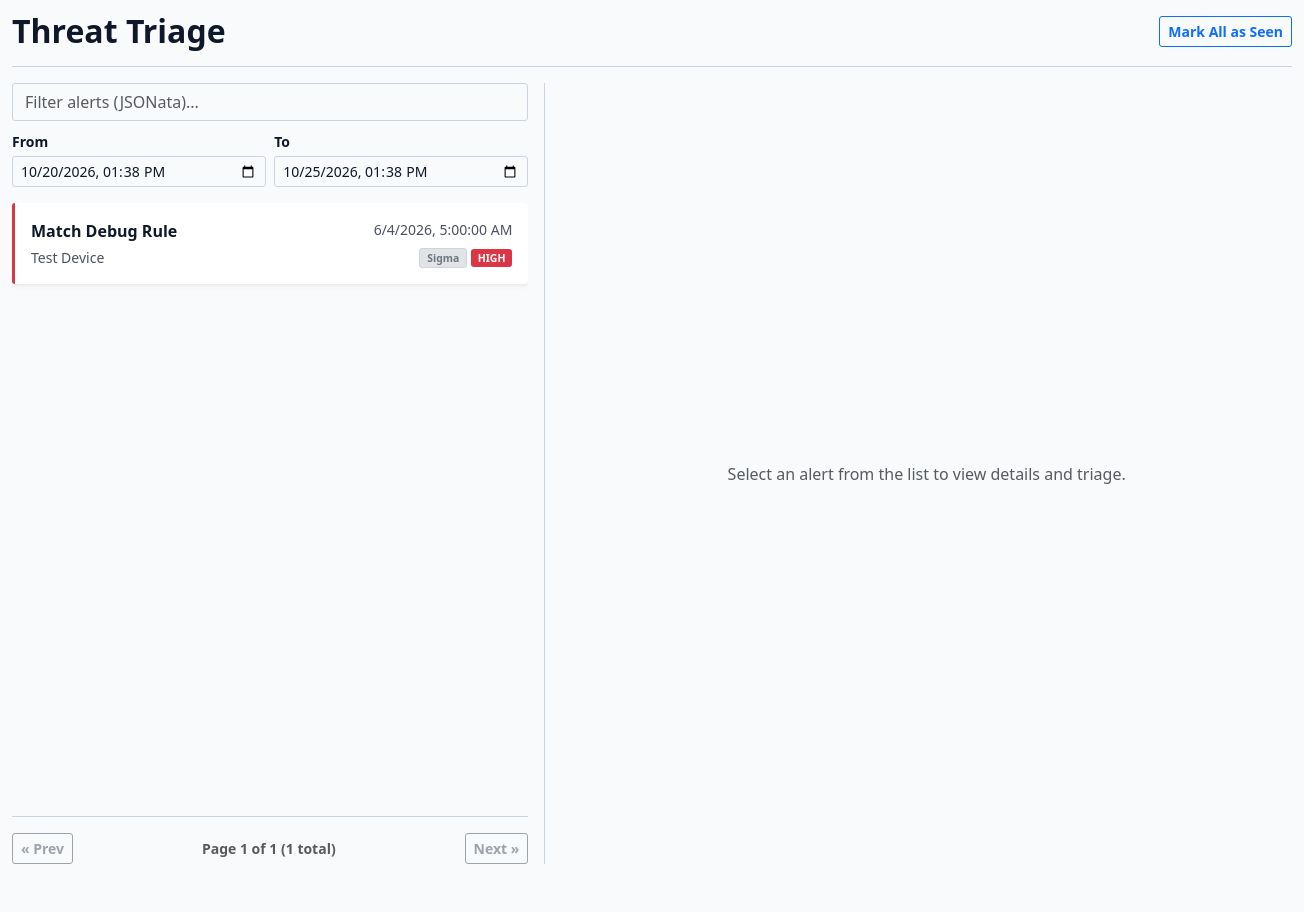
Test: Alerts Page › Rustinel New Alert Fields UI › renders match explanation when edr.match is present
What coordinates should you click on to do the following:
click the text "Match Debug Rule"
I would click on:
 (104, 231)
Its box is x1=31 y1=219 x2=177 y2=243.
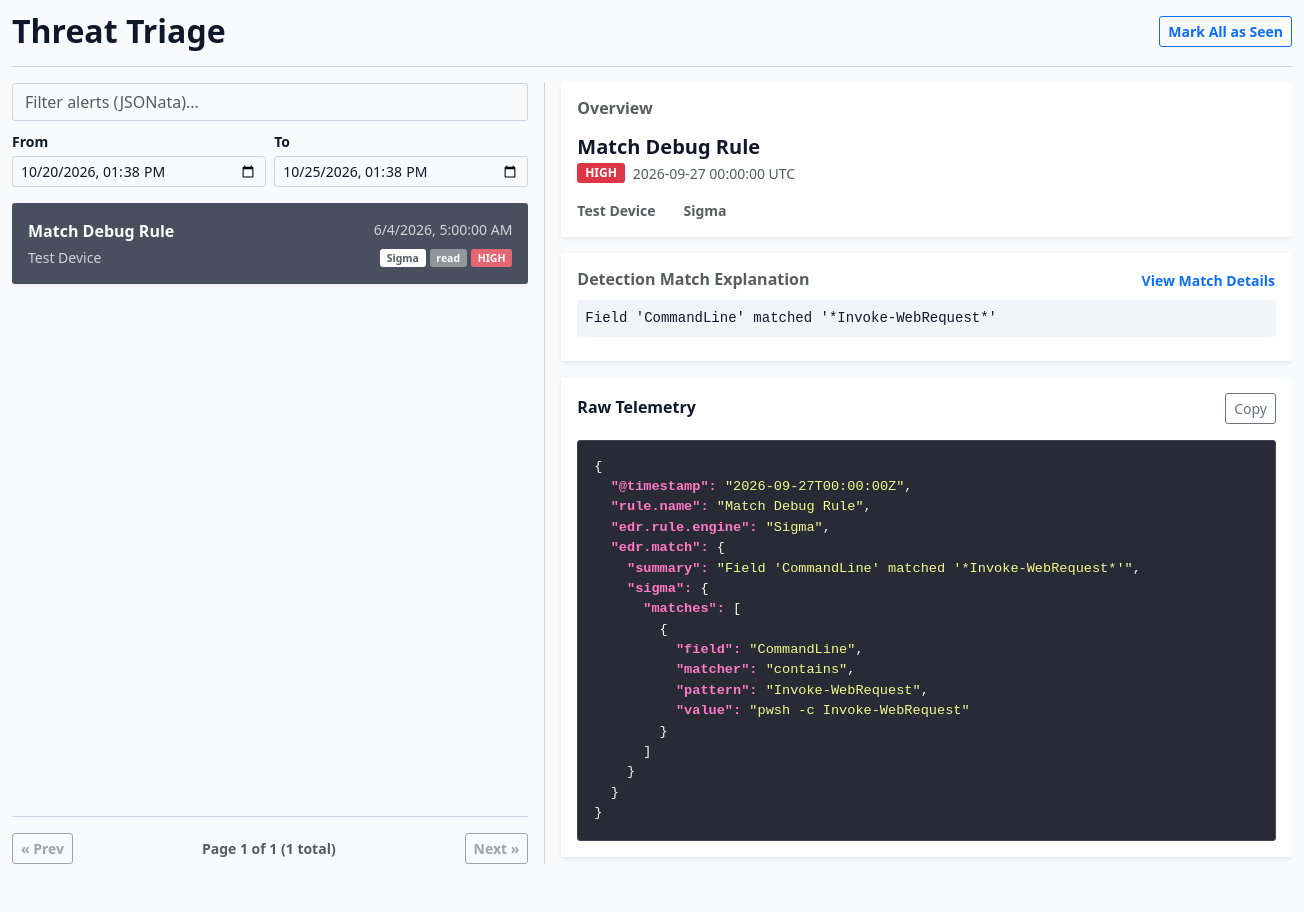
Result: the heading "Detection Match Explanation" is shown at x1=577 y1=270 x2=810 y2=290
Result: the text "Field 'CommandLine' matched '*Invoke-WebRequest*'" is shown at x1=577 y1=300 x2=1276 y2=337
